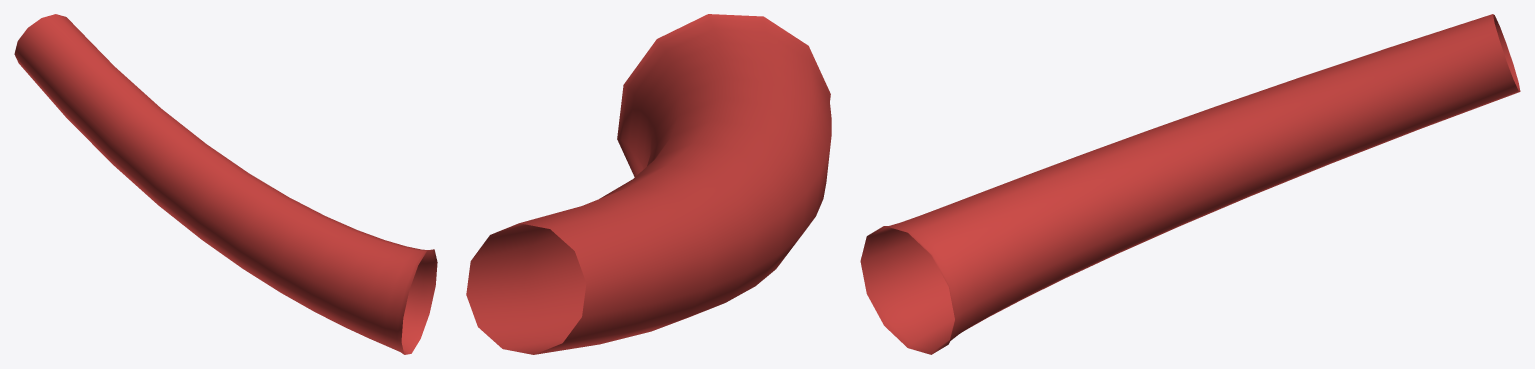
3 views of the same model, side by side, from view 1: azimuth 30°, elevation 25°; view 2: azimuth 150°, elevation 25°; view 3: azimuth 270°, elevation 25° (orthographic). The views are drawn at different scales.
Parts seen in each view (by area): view 1: 左侧肩胛下动脉; view 2: 左侧肩胛下动脉; view 3: 左侧肩胛下动脉.
Boxes of the visible parts, <box> form: 左侧肩胛下动脉: <box>14,14,437,354</box>; 左侧肩胛下动脉: <box>466,14,831,354</box>; 左侧肩胛下动脉: <box>860,14,1520,354</box>.
Bounding box in the file's own units: 0.00925 × 0.00871 × 0.0208.
